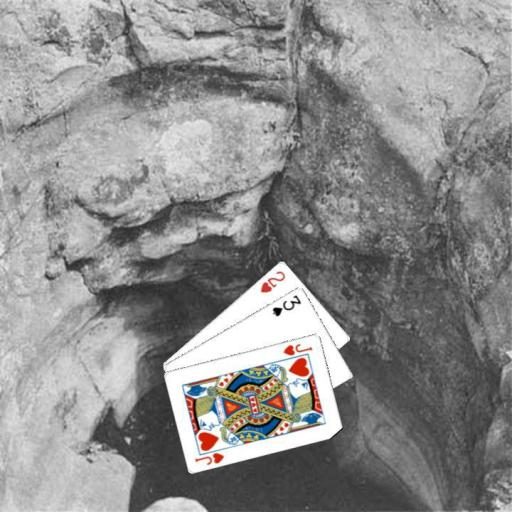2H: (258, 268, 287, 295)
3S: (270, 291, 302, 318)
JH: (280, 340, 314, 357), (192, 449, 225, 466)
